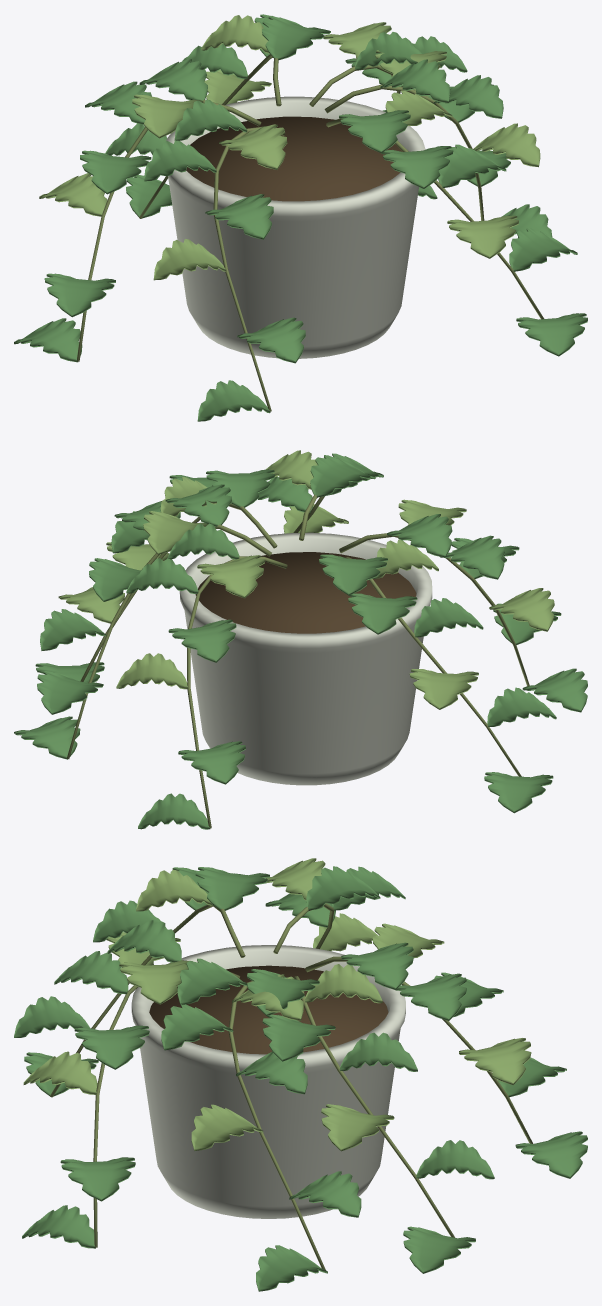
File: ivy.glb
3 views of the same model, one above another, from view 1: azimuth 30°, elevation 25°; view 2: azimuth 150°, elevation 25°; view 3: azimuth 270°, elevation 25° (orthographic). The views are drawn at different scales.
Parts seen in each view (by area): view 1: ivy__leaves, ivy__body, ivy__young_leaves, ivy__soil, ivy__stems; view 2: ivy__leaves, ivy__body, ivy__young_leaves, ivy__soil, ivy__stems; view 3: ivy__leaves, ivy__body, ivy__young_leaves, ivy__soil, ivy__stems.
Boxes of the visible parts, box(x1,y1,x2,y2) form: ivy__leaves: box(14, 14, 587, 421); ivy__body: box(166, 96, 425, 358); ivy__young_leaves: box(39, 15, 540, 280); ivy__soil: box(186, 116, 402, 201); ivy__stems: box(77, 54, 544, 411); ivy__leaves: box(14, 453, 587, 829); ivy__body: box(179, 532, 432, 785); ivy__young_leaves: box(58, 450, 554, 709); ivy__soil: box(195, 552, 416, 633); ivy__stems: box(66, 494, 529, 828); ivy__leaves: box(14, 866, 587, 1291); ivy__body: box(131, 945, 405, 1218); ivy__young_leaves: box(23, 858, 531, 1151); ivy__soil: box(149, 965, 388, 1054); ivy__stems: box(50, 903, 533, 1269).
Bounding box in the file's own units: 0.4175 × 0.1818 × 0.3765.
